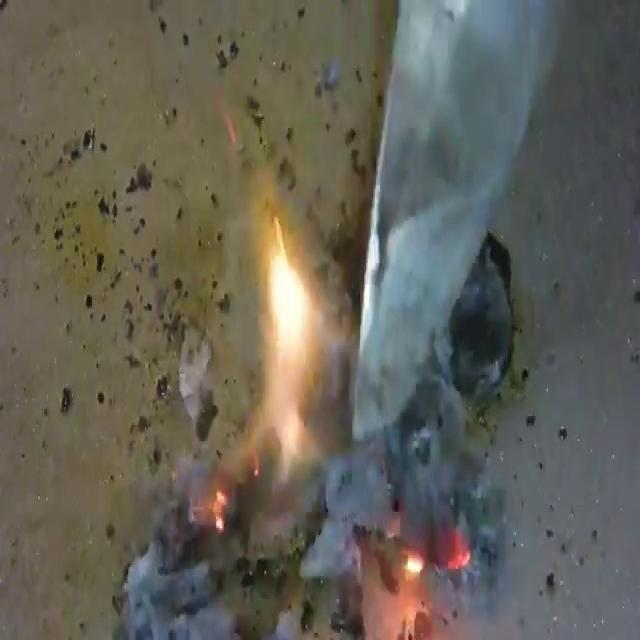Fire: (168, 39, 485, 640)
